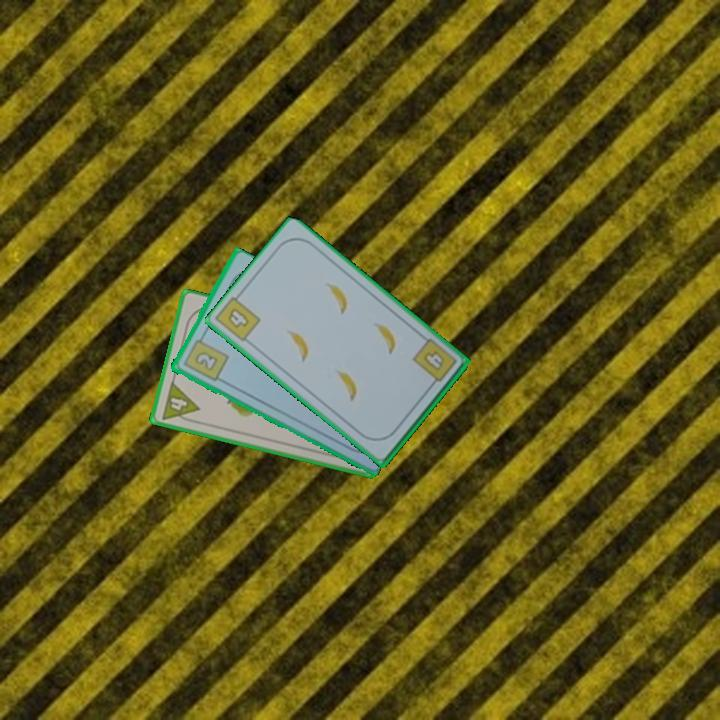2b: (179, 331, 231, 384)
4b: (409, 335, 460, 391), (224, 304, 252, 331)
4p: (158, 378, 202, 426)
